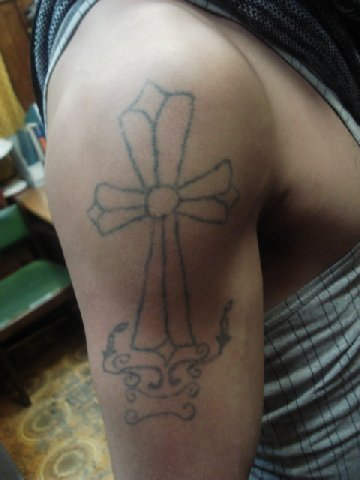tatu9_krest: (85, 69, 239, 355)
